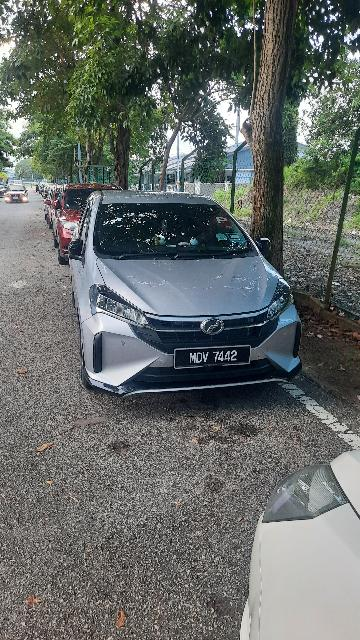License_Plate: (172, 345, 255, 371)
car: (62, 190, 308, 400)
